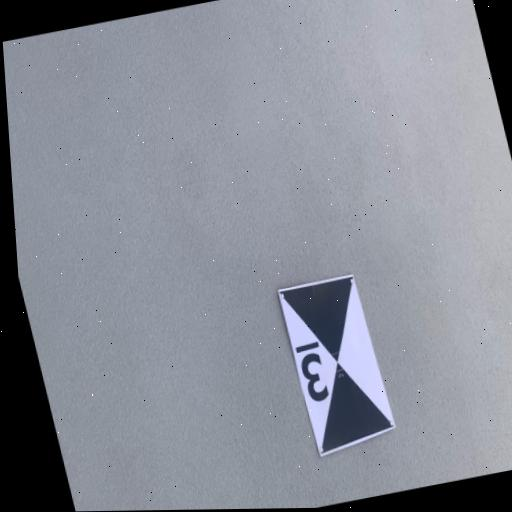target3: (275, 270, 396, 465)
